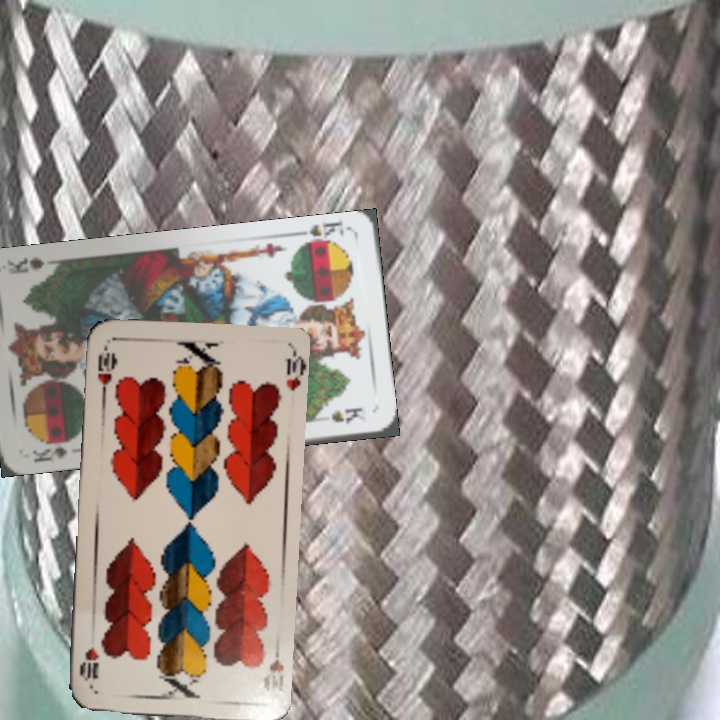H10: (259, 639, 287, 694), (93, 341, 117, 399)
SK: (292, 219, 347, 251), (28, 443, 70, 465)
